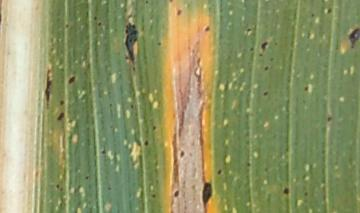tarspot: (121, 21, 139, 65), (201, 180, 214, 213), (44, 67, 53, 106), (347, 27, 360, 50), (260, 40, 269, 53), (56, 111, 66, 122), (67, 74, 76, 85), (203, 24, 212, 34), (174, 8, 183, 18), (178, 149, 186, 159), (245, 27, 253, 37), (126, 12, 133, 23), (325, 6, 333, 15), (1, 1, 4, 25), (91, 14, 99, 23), (282, 186, 289, 196), (325, 114, 333, 122), (63, 22, 71, 30), (262, 64, 269, 73), (107, 101, 114, 110), (262, 90, 269, 98), (245, 161, 253, 168), (247, 45, 254, 53), (173, 189, 180, 197), (58, 98, 65, 106), (150, 192, 157, 200), (303, 84, 309, 93), (143, 138, 149, 147), (305, 31, 311, 40), (272, 40, 279, 47), (216, 168, 222, 176), (156, 40, 162, 48), (151, 124, 157, 132), (83, 174, 91, 180), (302, 190, 308, 197), (257, 52, 264, 58), (268, 56, 274, 63), (106, 185, 112, 192), (100, 148, 106, 155), (130, 65, 136, 72), (97, 21, 103, 28), (129, 103, 134, 111), (58, 186, 64, 192), (54, 183, 60, 189), (122, 7, 128, 13), (310, 11, 315, 18), (319, 1, 327, 4), (167, 1, 175, 3), (144, 1, 149, 4)
